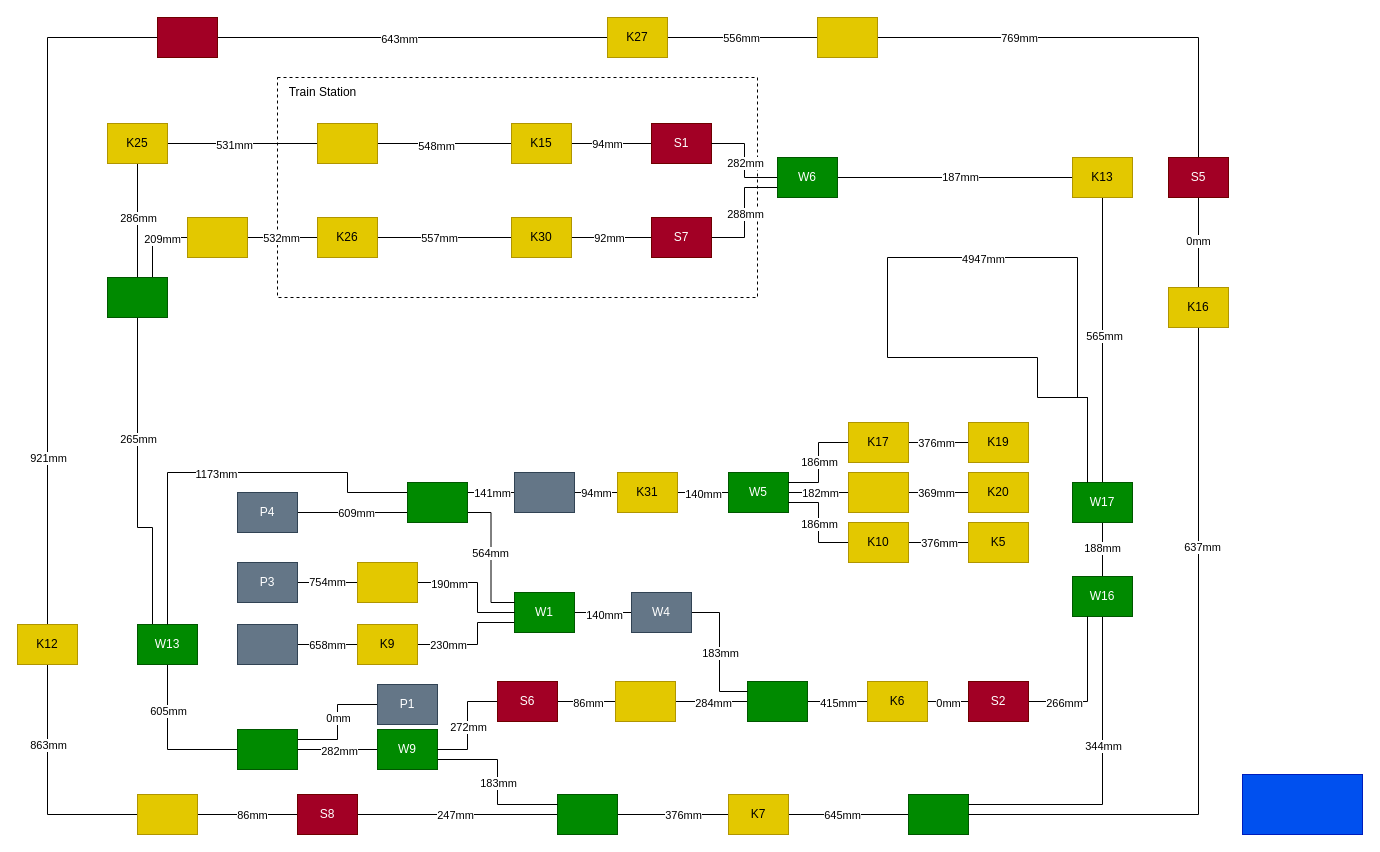
This 1380x852 diagram has some shape labels left out. Each missing label, with the box of its shape:
Central Station: (1242, 774, 1362, 834)
K2: (356, 562, 418, 602)
K21: (848, 472, 908, 512)
K23: (186, 216, 248, 258)
K28: (316, 122, 378, 164)
K29: (816, 16, 878, 58)
K3: (614, 680, 676, 722)
K4: (136, 794, 198, 834)
P2: (236, 624, 298, 664)
S3: (156, 16, 218, 58)
W10: (556, 794, 618, 834)
W11: (514, 472, 574, 512)
W12: (406, 482, 468, 522)
W14: (106, 276, 168, 318)
W15: (908, 794, 968, 834)
W3: (746, 680, 808, 722)
W?: (236, 728, 298, 770)
